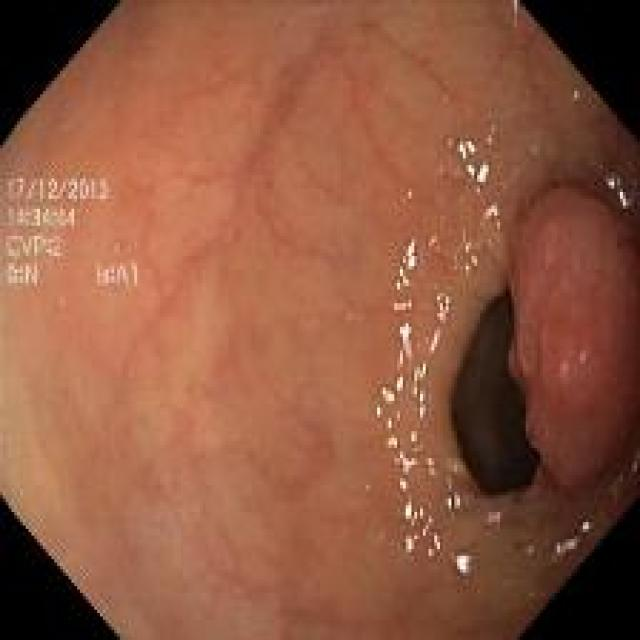Polyps: (509, 186, 640, 490)
